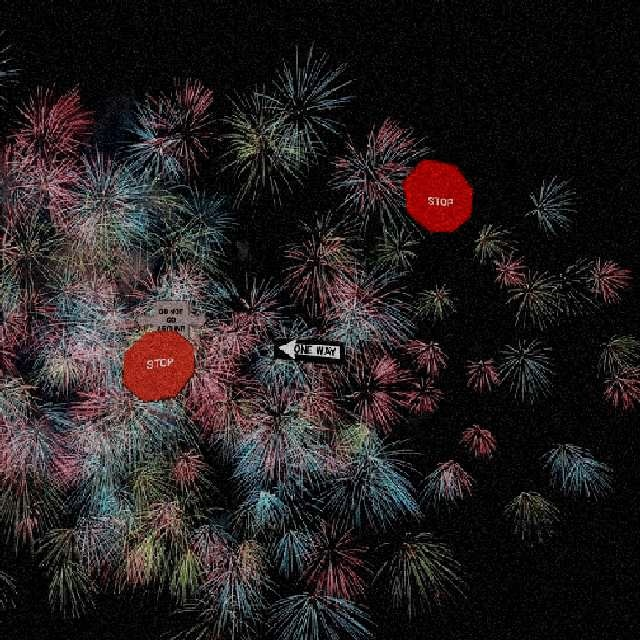DO_NOT_GO_AROUND: (133, 299, 207, 339)
ONE_WAY_ left: (271, 336, 345, 364)
STOP: (120, 328, 194, 402), (400, 157, 473, 231)
